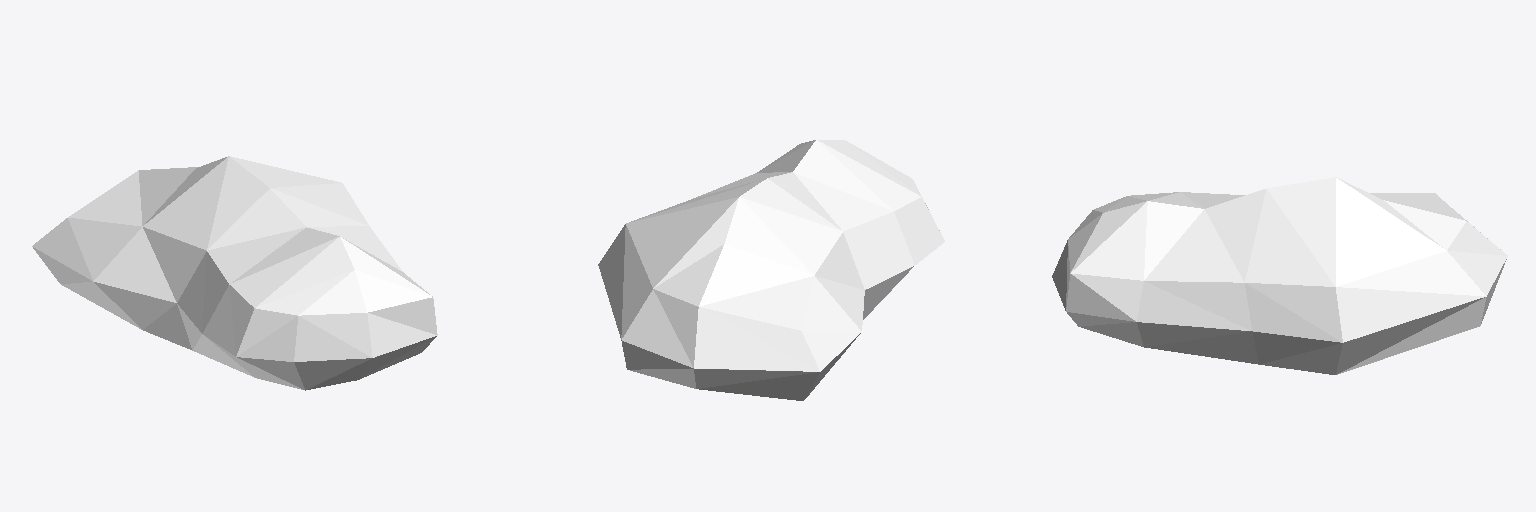
The model's file is Rock_05.obj.
3 views of the same model, side by side, from view 1: azimuth 30°, elevation 25°; view 2: azimuth 150°, elevation 25°; view 3: azimuth 270°, elevation 25° (orthographic).
Visible parts, largest first — view 1: world_expansion06_doodads_suramar_7sr_cragrock_a03.m2_Geoset_000; view 2: world_expansion06_doodads_suramar_7sr_cragrock_a03.m2_Geoset_000; view 3: world_expansion06_doodads_suramar_7sr_cragrock_a03.m2_Geoset_000.
Part boxes in pixels (x1,y1,x2,y2): world_expansion06_doodads_suramar_7sr_cragrock_a03.m2_Geoset_000: (32,156,437,390); world_expansion06_doodads_suramar_7sr_cragrock_a03.m2_Geoset_000: (598,140,944,400); world_expansion06_doodads_suramar_7sr_cragrock_a03.m2_Geoset_000: (1052,177,1507,374).
Bounding box in the file's own units: 7.33 × 4.02 × 10.47.